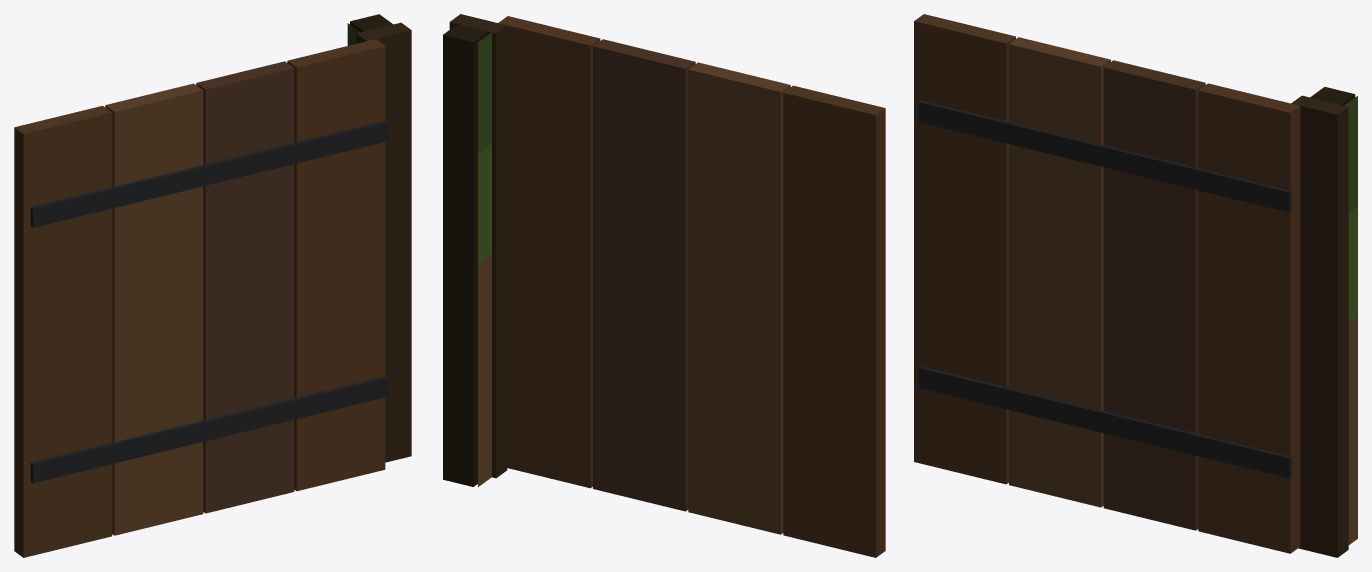
The model's file is wall-mossy-door-open-low-l.glb.
3 views of the same model, side by side, from view 1: azimuth 30°, elevation 25°; view 2: azimuth 150°, elevation 25°; view 3: azimuth 330°, elevation 25° (orthographic). The views are drawn at different scales.
Parts seen in each view (by area): view 1: wall-mossy-door-open-low-l; view 2: wall-mossy-door-open-low-l; view 3: wall-mossy-door-open-low-l.
Boxes of the visible parts, x1,y1,x2,y2 form: wall-mossy-door-open-low-l: (14,14,411,557); wall-mossy-door-open-low-l: (443,14,885,557); wall-mossy-door-open-low-l: (914,14,1357,557).
Bounding box in the file's own units: 0.977 × 1 × 0.155.
